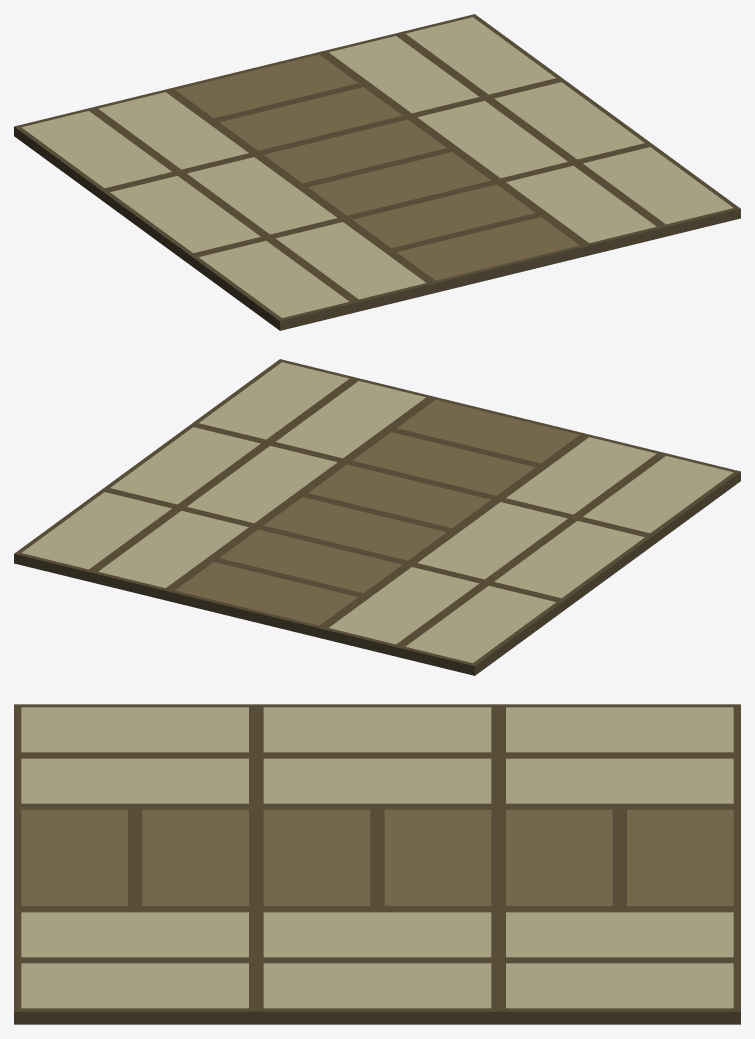
Rendered from Floor_Yukiko.fbx.
The picture shows the model from 3 angles, top to bottom: view 1: azimuth 30°, elevation 25°; view 2: azimuth 150°, elevation 25°; view 3: azimuth 270°, elevation 25°; orthographic projection. The views are drawn at different scales.
Parts seen in each view (by area): view 1: Cube; view 2: Cube; view 3: Cube.
Boxes of the visible parts, left/top/right/bottom form: Cube: left=14, top=14, right=740, bottom=330; Cube: left=14, top=359, right=740, bottom=675; Cube: left=14, top=704, right=740, bottom=1024.
Size of the model in its own units: 500 by 10 by 500.
